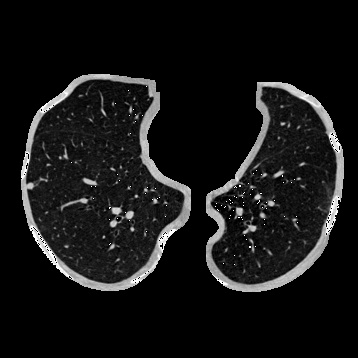PN: (26, 181, 34, 189)
